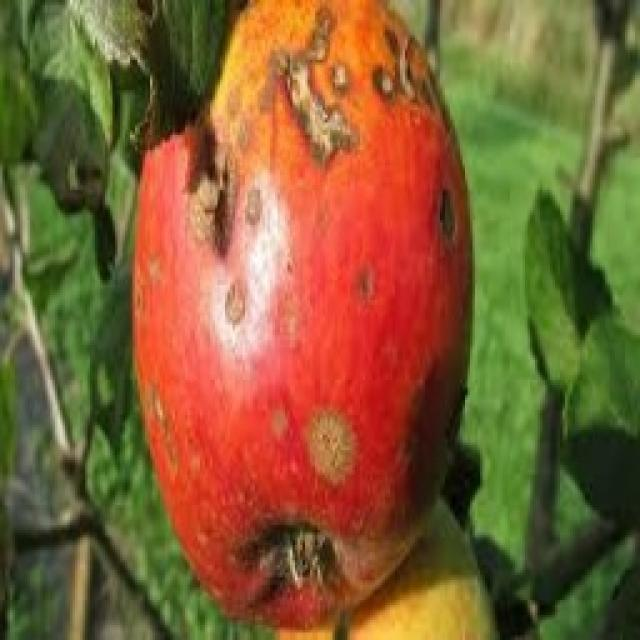defective: (122, 0, 485, 638)
